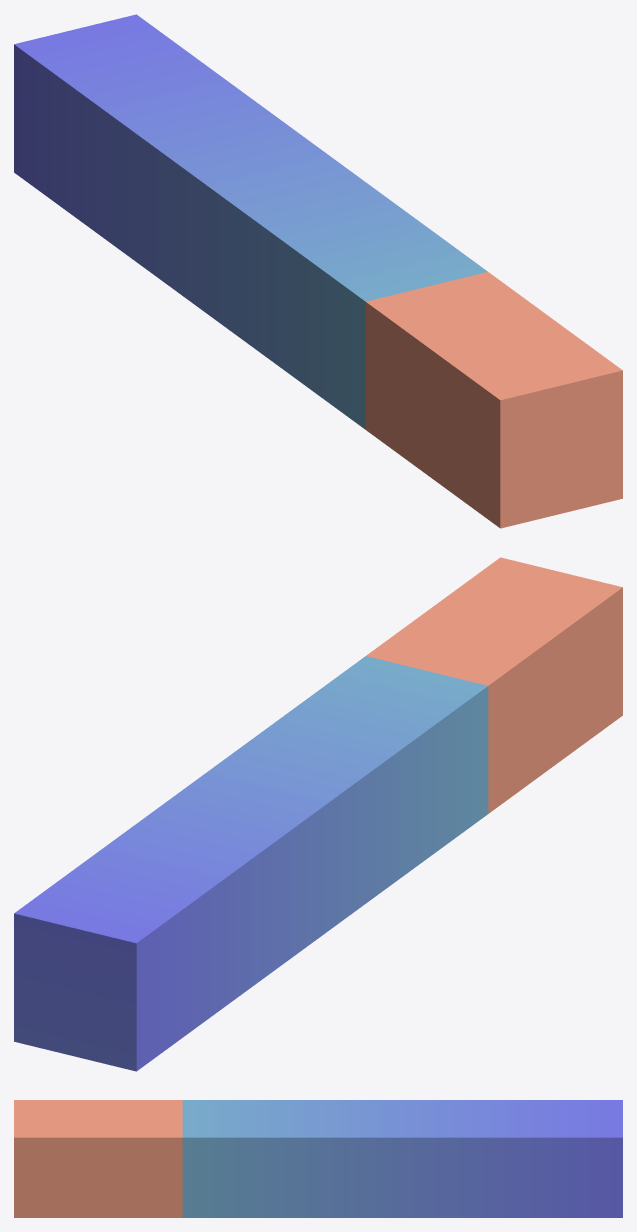
Rendered from Arm.fbx.
3 views of the same model, one above another, from view 1: azimuth 30°, elevation 25°; view 2: azimuth 150°, elevation 25°; view 3: azimuth 270°, elevation 25° (orthographic). The views are drawn at different scales.
Visible parts, largest first — view 1: Arm; view 2: Arm; view 3: Arm.
Boxes of the visible parts, x1=… form: Arm: x1=14, y1=14, x2=622, y2=528; Arm: x1=14, y1=557, x2=622, y2=1071; Arm: x1=14, y1=1100, x2=622, y2=1217.
Size of the model in its own units: 200 by 200 by 1375.
Materials: 1 (1 with a texture image).
